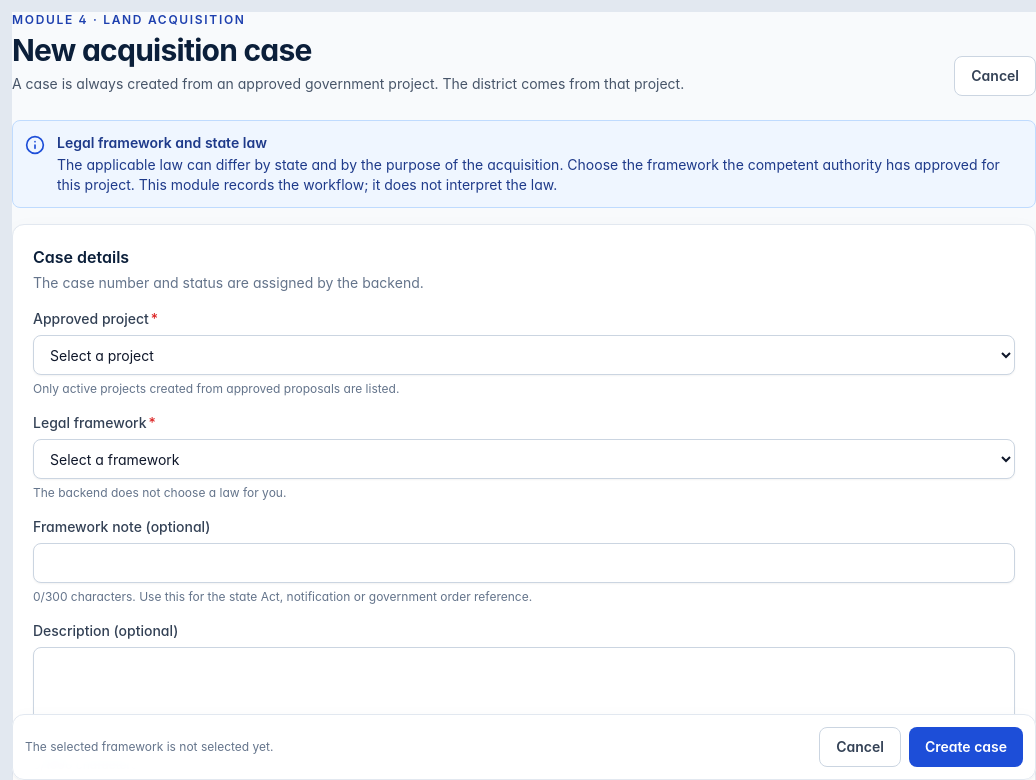
acquisition case pages › shows validation errors before creating a case
Click the button "Create case" at (966, 747), box [909,727,1023,767]
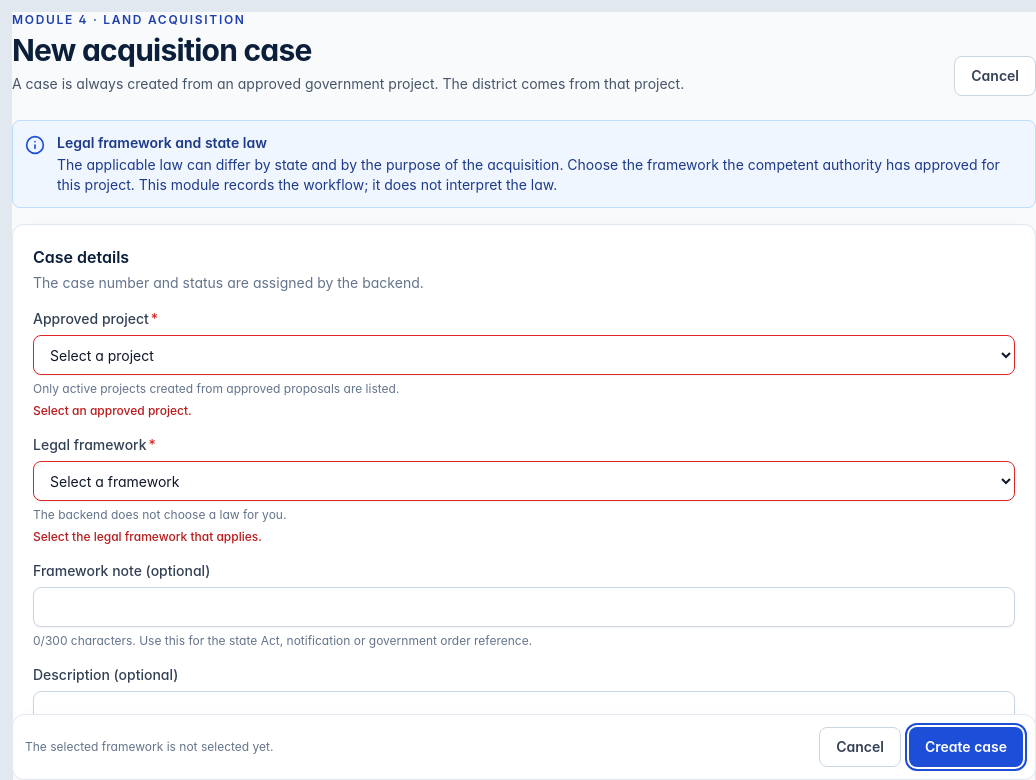
Expected: the text "Select an approved project." is shown, [33,403,192,418]
Expected: the text "Select the legal framework that applies." is shown, [33,529,262,544]
